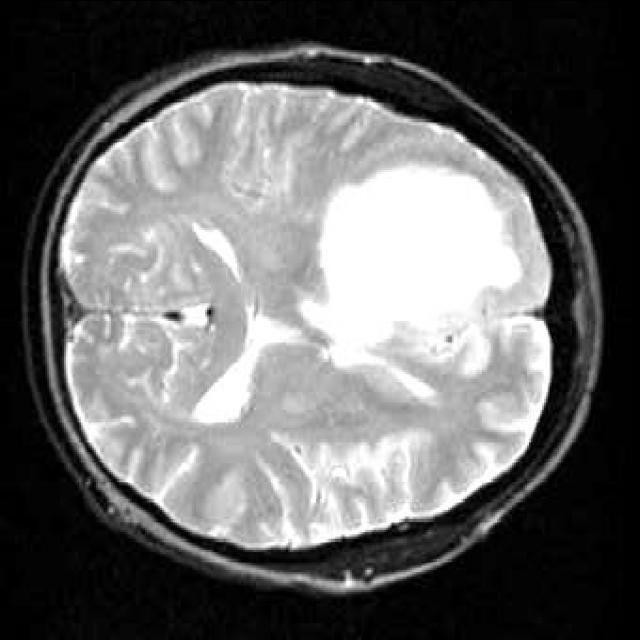tumor: (301, 162, 525, 364)
